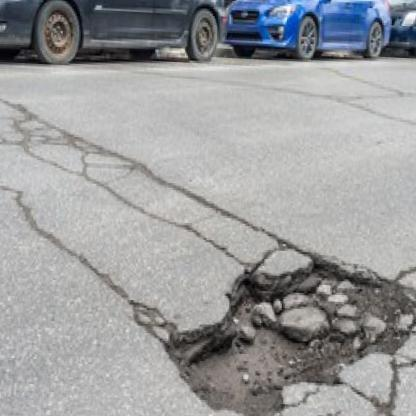pothole: (166, 250, 414, 416)
